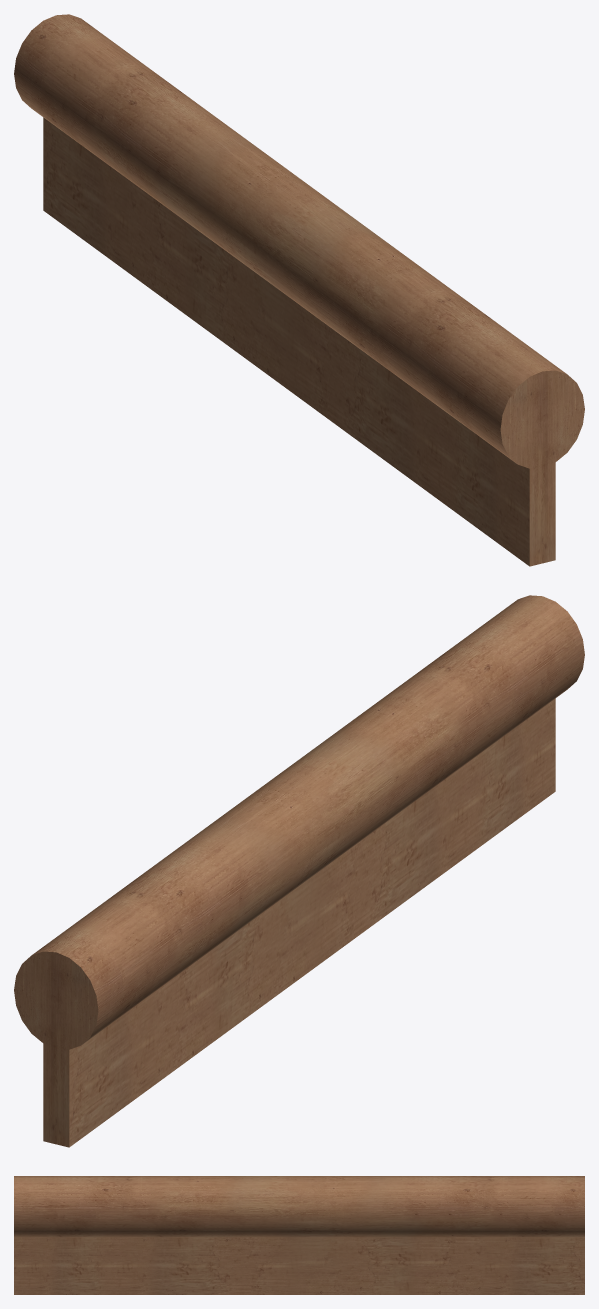
Rendered from SM_JSH_BeamA.fbx.
The picture shows the model from 3 angles, top to bottom: view 1: azimuth 30°, elevation 25°; view 2: azimuth 150°, elevation 25°; view 3: azimuth 270°, elevation 25°; orthographic projection. The views are drawn at different scales.
Parts seen in each view (by area): view 1: SM_JSH_BeamA; view 2: SM_JSH_BeamA; view 3: SM_JSH_BeamA.
Part boxes in pixels (<box>): SM_JSH_BeamA: <box>14,14,584,566</box>; SM_JSH_BeamA: <box>14,595,584,1147</box>; SM_JSH_BeamA: <box>14,1176,584,1294</box>.
Size of the model in its own units: 26.17 by 261 by 56.86.
1 material, 1 textured.
